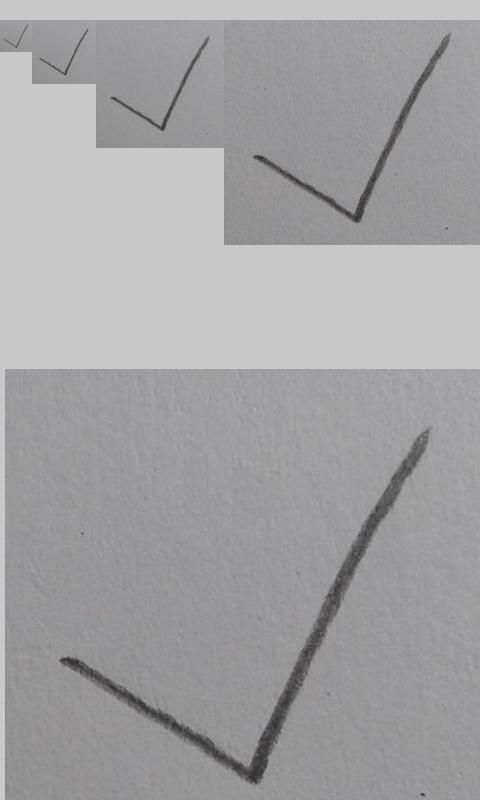check_box: (57, 430, 433, 784), (253, 33, 453, 224), (110, 35, 212, 131), (40, 28, 89, 76), (3, 24, 28, 48)
